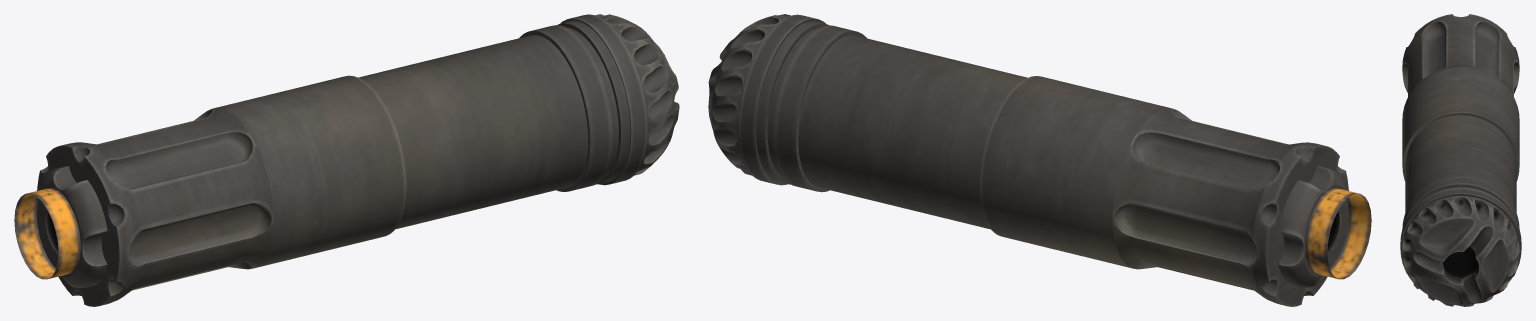
File: rifle_suppressor.4fe03f71f9.glb
The picture shows the model from 3 angles, left to right: view 1: azimuth 30°, elevation 25°; view 2: azimuth 150°, elevation 25°; view 3: azimuth 270°, elevation 25°; orthographic projection. The views are drawn at different scales.
Visible parts, largest first — view 1: rifle_suppressor; view 2: rifle_suppressor; view 3: rifle_suppressor.
Boxes of the visible parts, bbox=[...] form: rifle_suppressor: bbox=[14, 14, 679, 306]; rifle_suppressor: bbox=[708, 14, 1371, 306]; rifle_suppressor: bbox=[1400, 14, 1521, 306].
Size of the model in its own units: 0.1716 by 0.0406 by 0.0406.
1 material, 1 textured.
